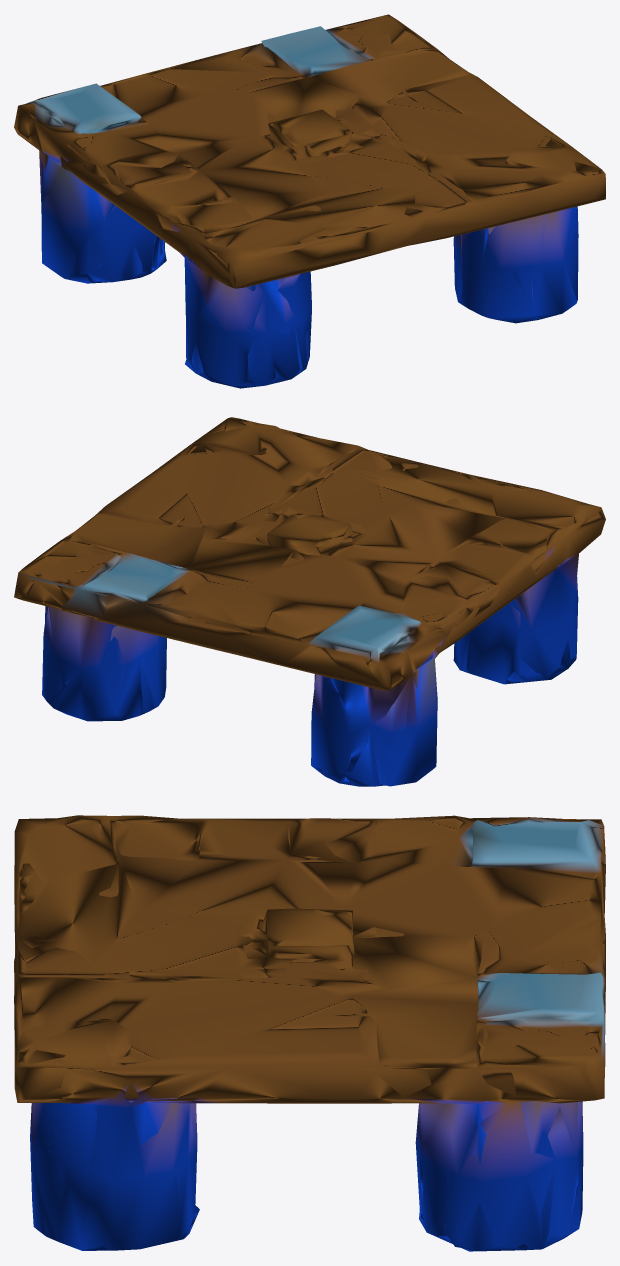
The model's file is gen3d-floating-dock-lod0.glb.
3 views of the same model, one above another, from view 1: azimuth 30°, elevation 25°; view 2: azimuth 150°, elevation 25°; view 3: azimuth 270°, elevation 25° (orthographic). The views are drawn at different scales.
Visible parts, largest first — view 1: part_0; view 2: part_0; view 3: part_0.
Boxes of the visible parts, left/top/right/bottom form: part_0: left=14, top=14, right=605, bottom=388; part_0: left=14, top=417, right=605, bottom=786; part_0: left=14, top=815, right=605, bottom=1251.
Bounding box in the file's own units: 2.62 × 0.999 × 2.61.
